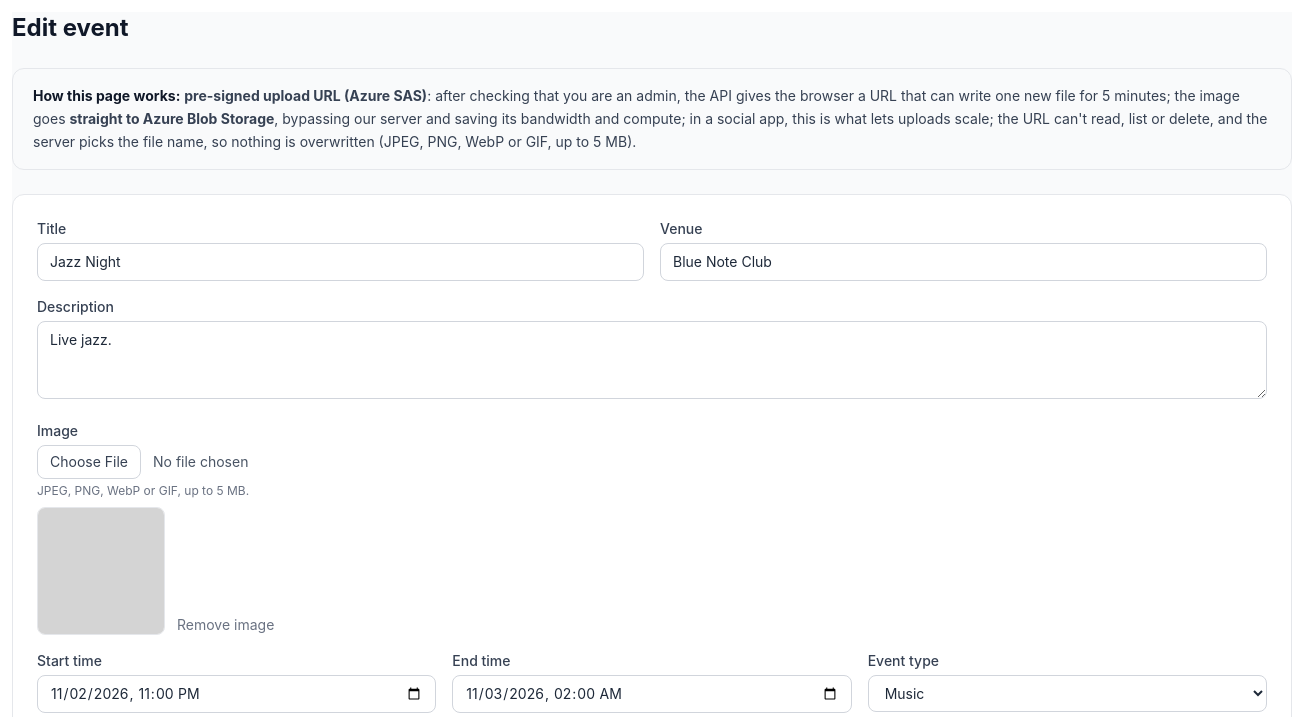
Test: AdminEventFormPage › changes made elsewhere › keeps the admin's typing and offers the other changes when the event is edited elsewhere
Type " Mine" into the field labelled "Title".
click(340, 262); type(" Mine")  # box [37,243,644,281]
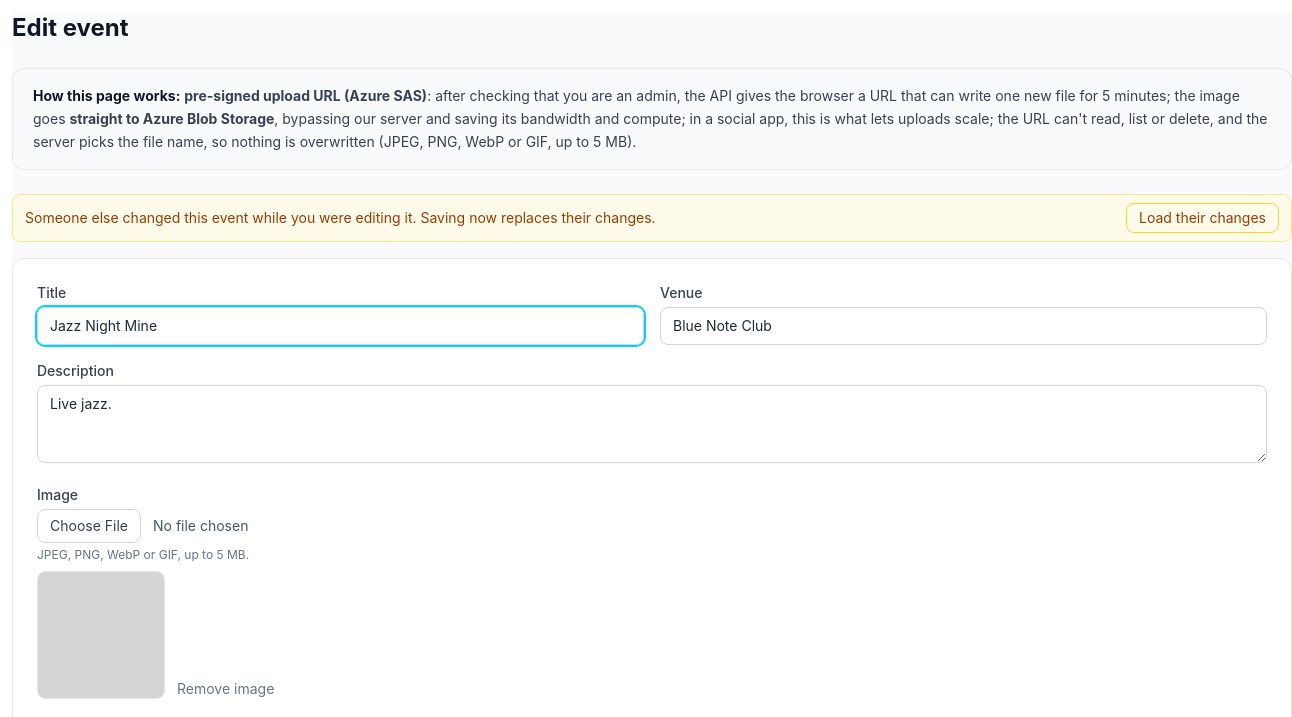
Check: the message shows "Someone else changed this event", box [25,209,656,226]
Check: the field labelled "Title" holds "Jazz Night Mine", box [37,307,644,345]
Click the button "Load their changes".
click(1202, 218)  # box [1126,203,1279,233]
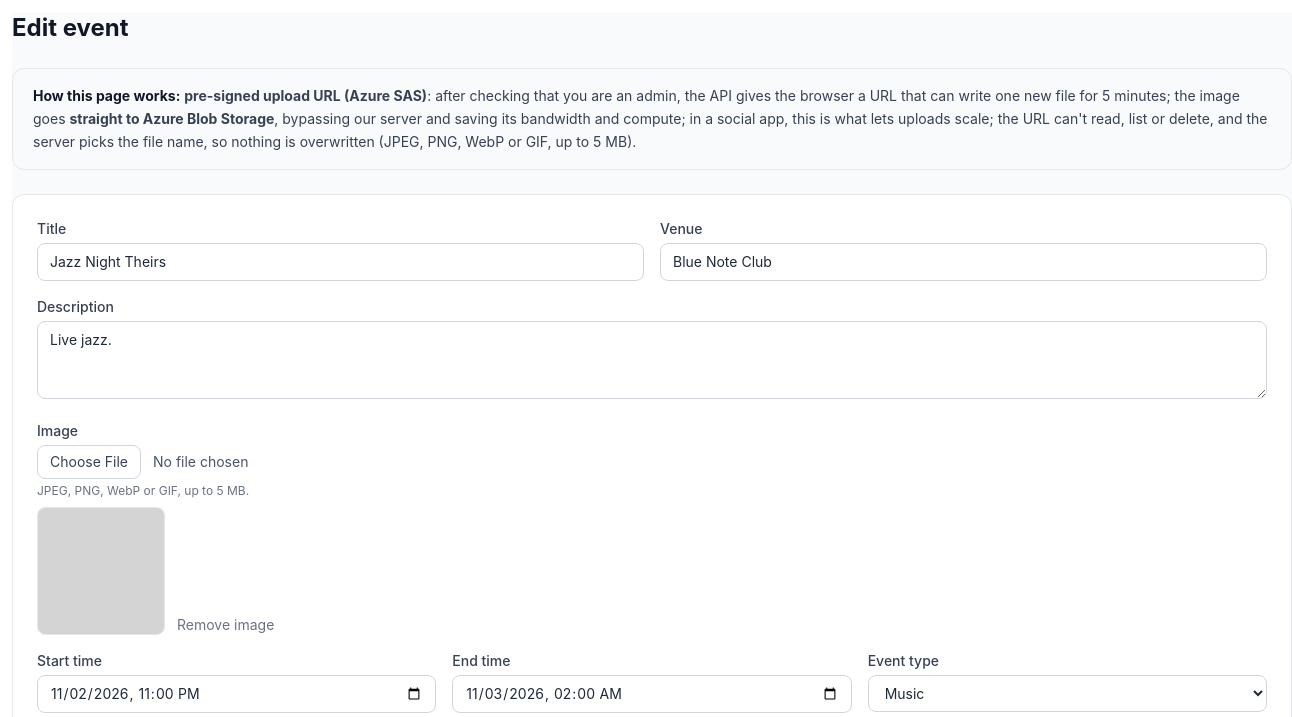
Check: the field labelled "Title" holds "Jazz Night Theirs", box [37,243,644,281]
Check: the message is gone
